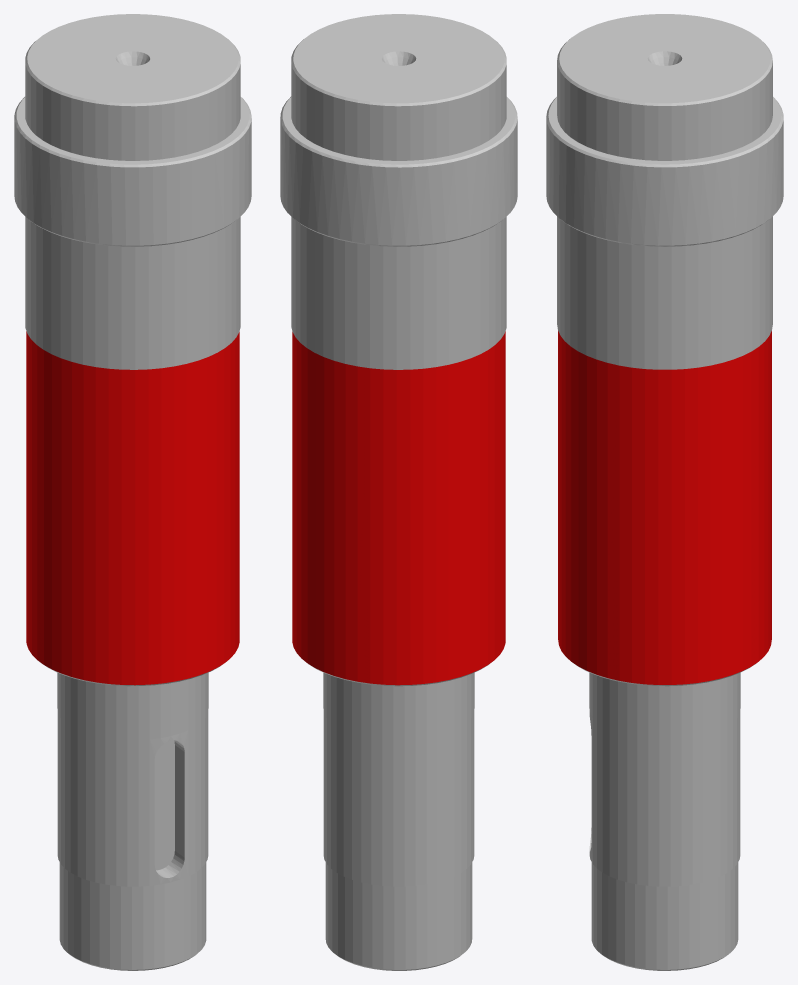
The model's file is 4_stp_8_9.obj.
3 renders of one model, left to right at view 1: azimuth 30°, elevation 25°; view 2: azimuth 150°, elevation 25°; view 3: azimuth 270°, elevation 25°, orthographic.
Visible parts, largest first — view 1: Object1; view 2: Object1; view 3: Object1.
Boxes of the visible parts, <box> form: Object1: <box>14,14,251,970</box>; Object1: <box>280,14,517,970</box>; Object1: <box>546,14,783,970</box>.
Bounding box in the file's own units: 54.98 × 225 × 55.
